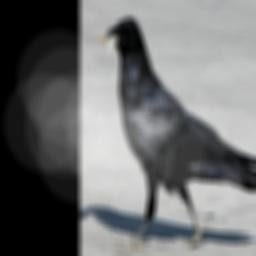Crow: (100, 17, 256, 252)
